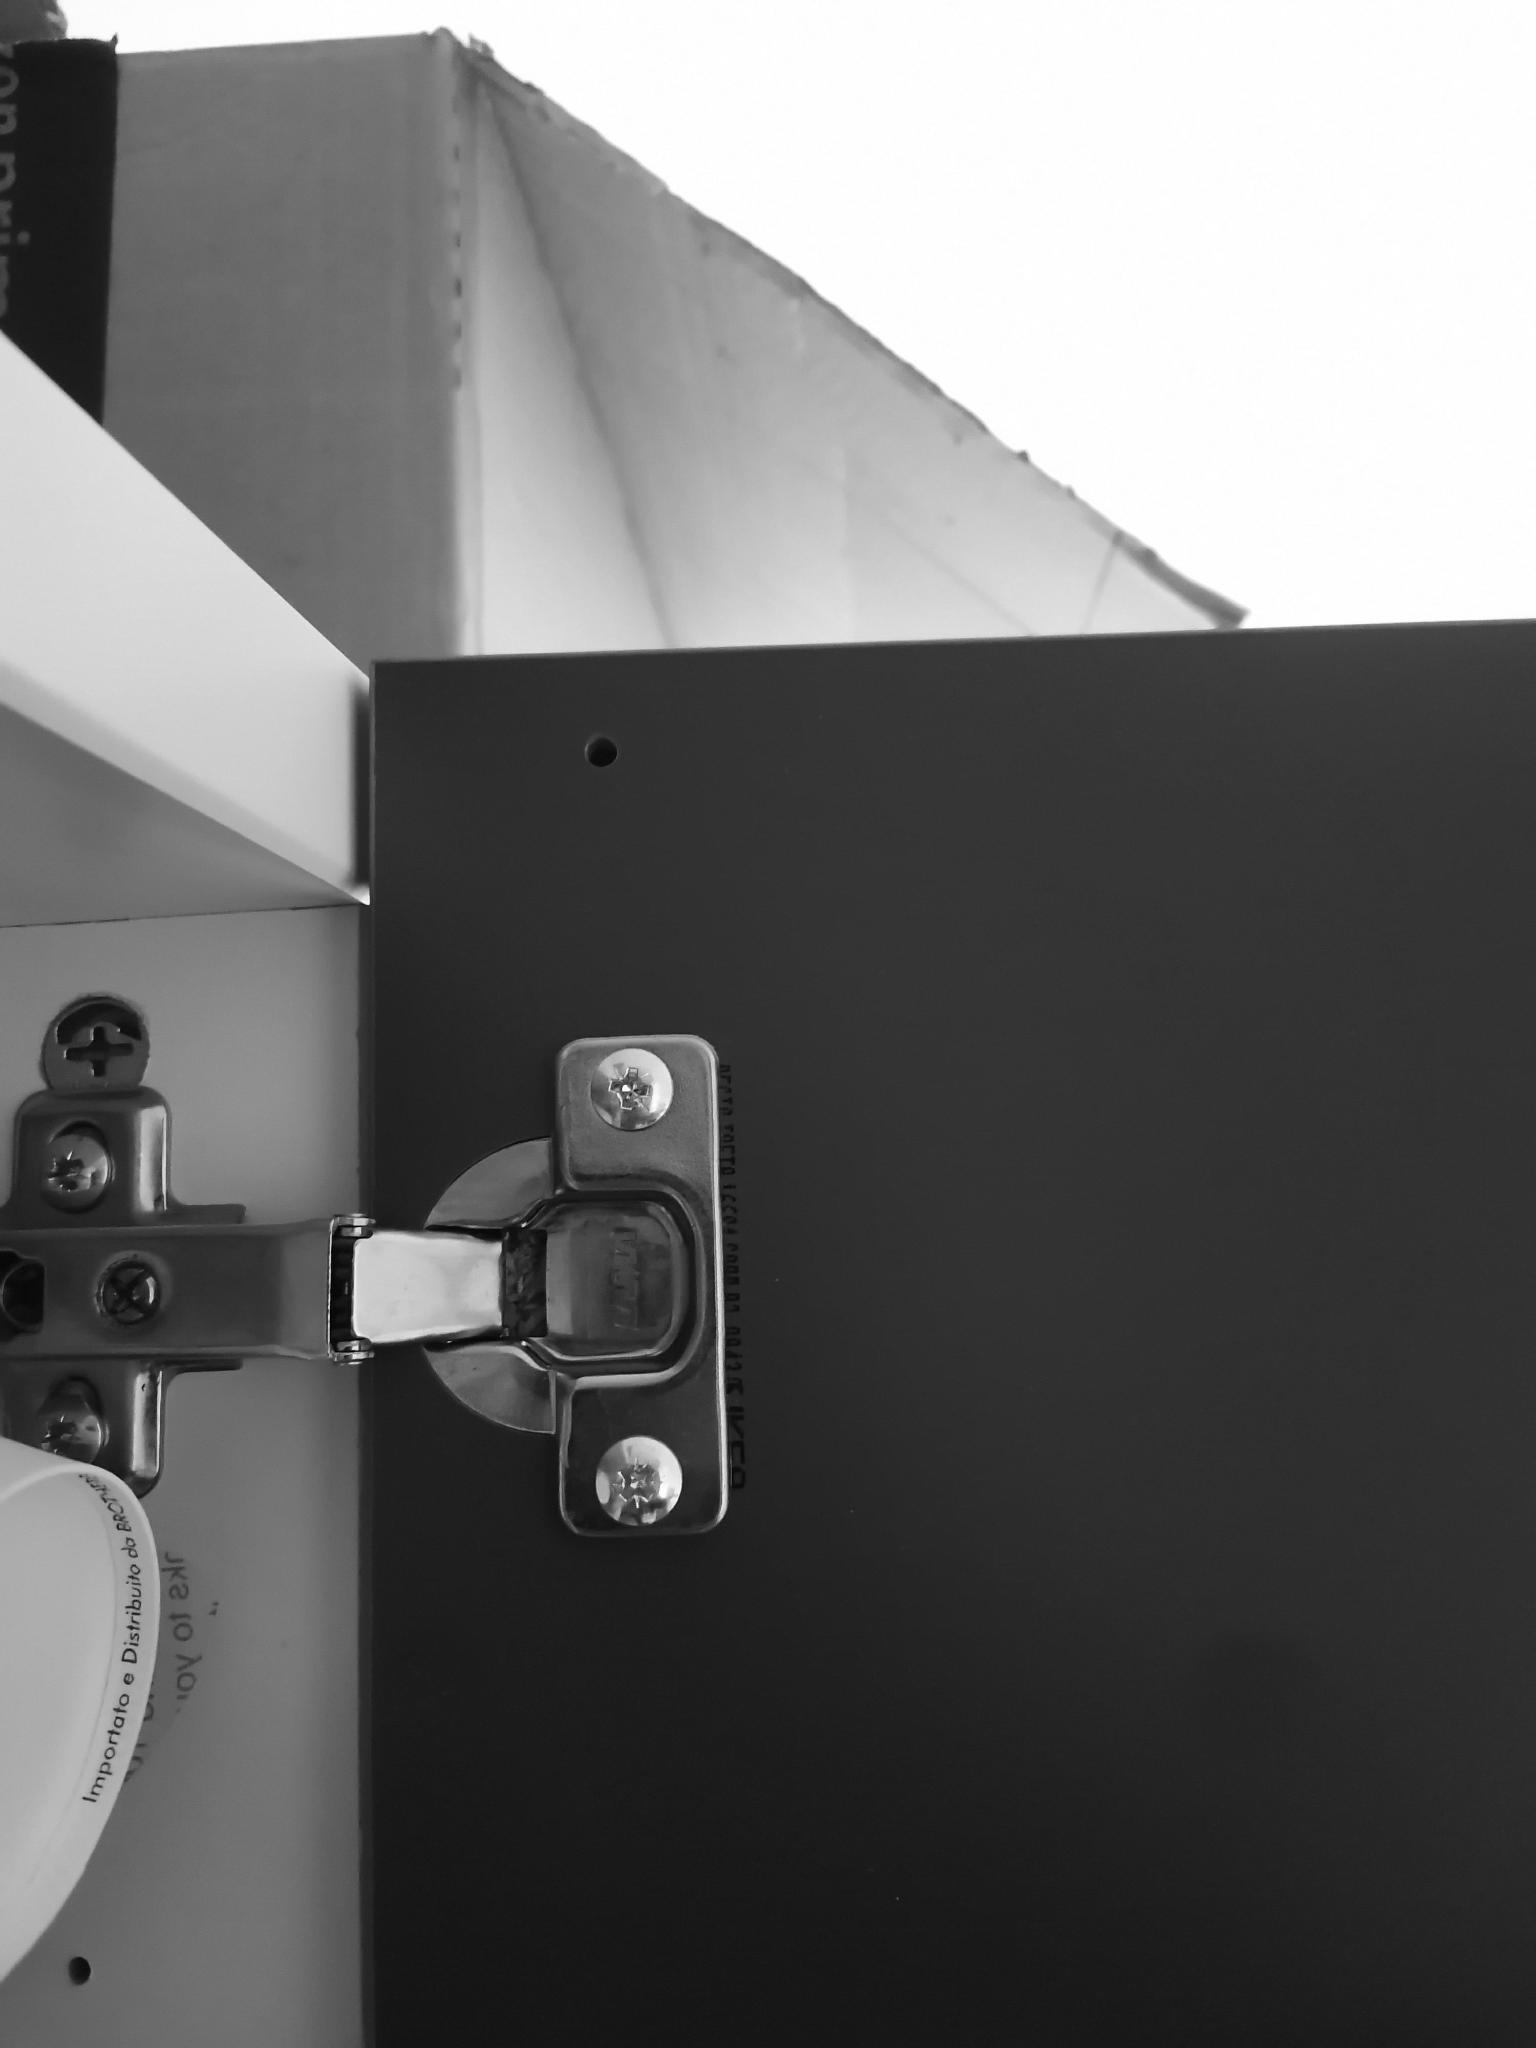philips-PZ: (587, 1437, 687, 1537), (584, 1047, 678, 1138)
